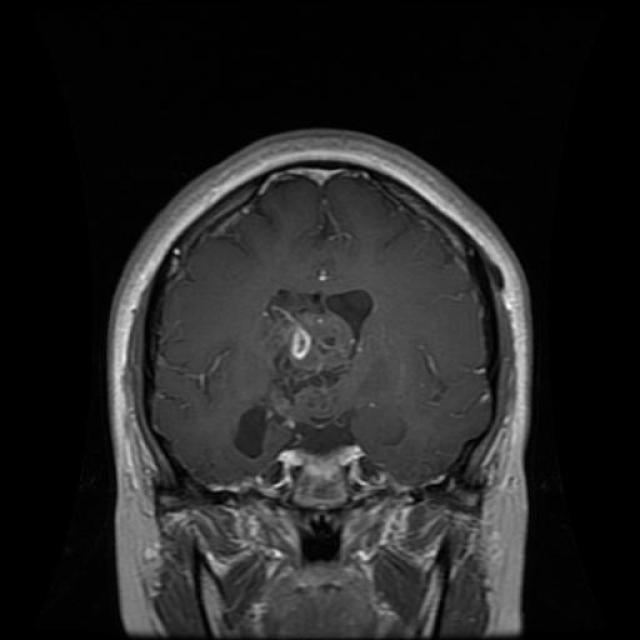glioma: (254, 275, 362, 400)
